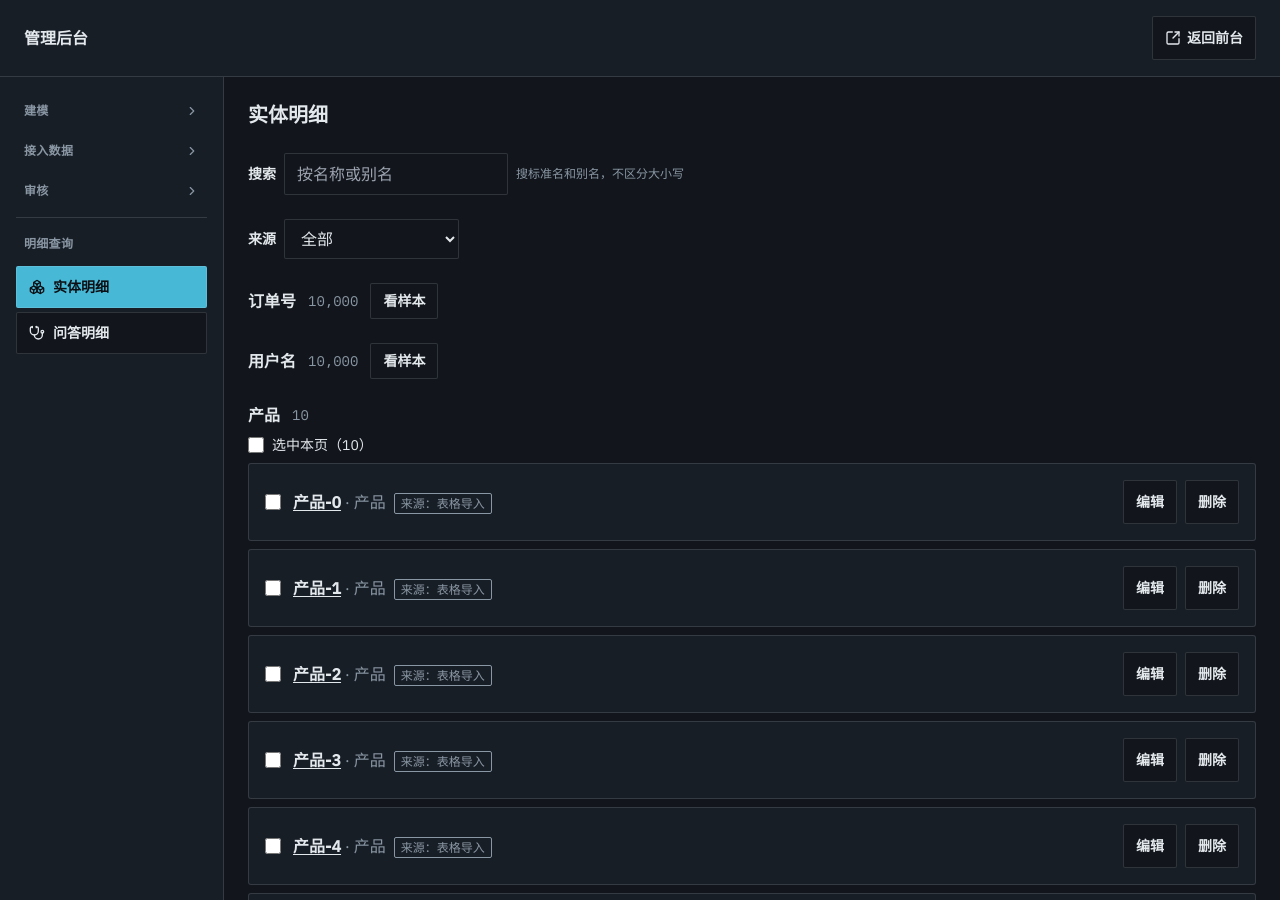
Test: 分组摘要 › 大类型点开之后能看到样本
Check: the element "订单号 10,000 看样本" is shown, box [248,283,438,319]
Click the button "看样本" in the row of "订单号".
click(404, 301)  # box [370,283,438,319]
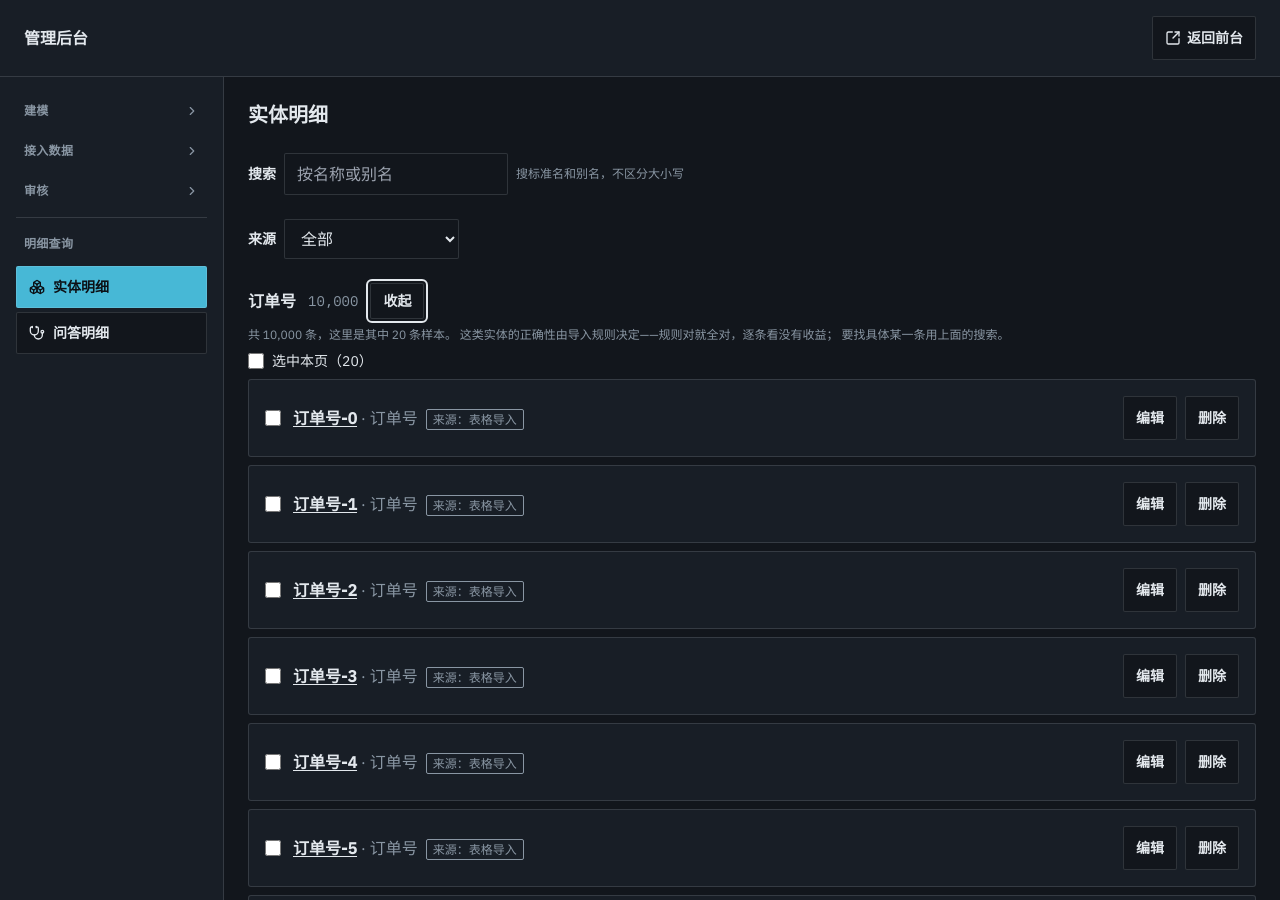
Check: the link "订单号-0" is shown, box [293,408,357,428]
